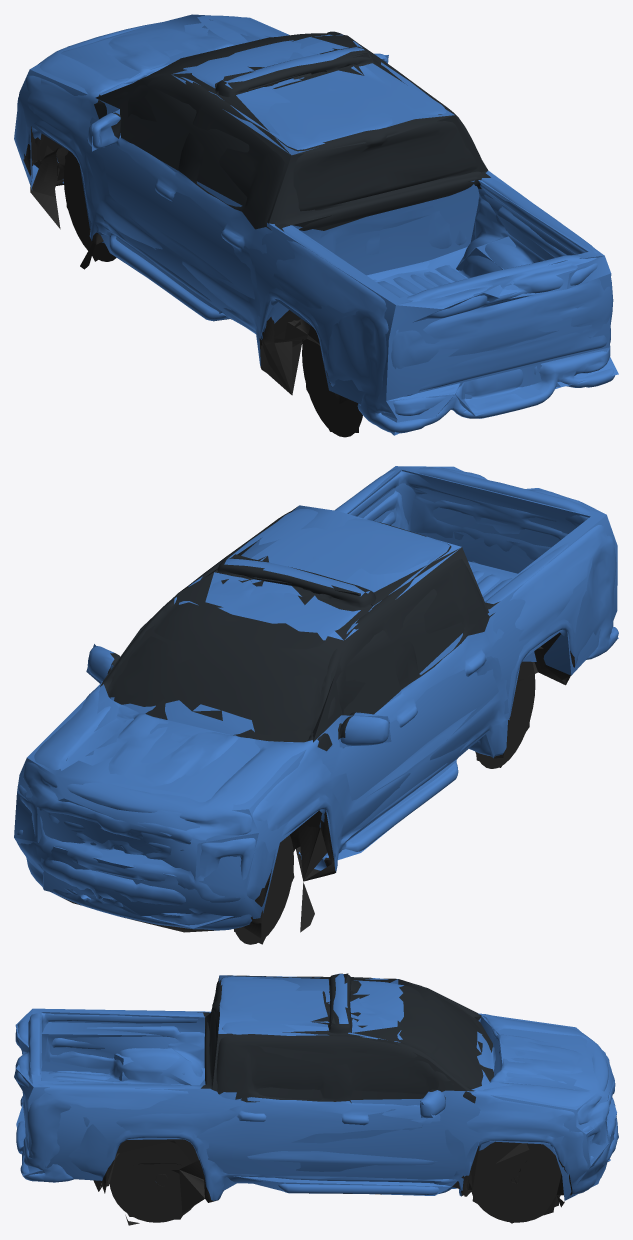
Rendered from gmc-canyon.glb.
3 renders of one model, top to bottom at view 1: azimuth 30°, elevation 25°; view 2: azimuth 150°, elevation 25°; view 3: azimuth 270°, elevation 25°, orthographic. The views are drawn at different scales.
Visible parts, largest first — view 1: body, far; view 2: body, far; view 3: body, far.
Boxes of the visible parts, x1=… form: body: x1=15, y1=15, x2=614, y2=437; far: x1=14, y1=14, x2=618, y2=435; body: x1=16, y1=467, x2=618, y2=944; far: x1=14, y1=466, x2=618, y2=944; body: x1=15, y1=973, x2=617, y2=1225; far: x1=14, y1=973, x2=618, y2=1223.
Size of the model in its own units: 2.32 by 1.98 by 5.44.
